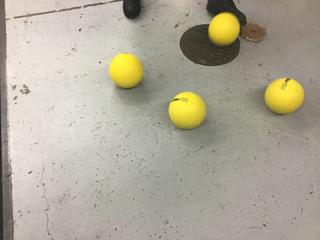power_cell: (167, 85, 207, 133), (265, 79, 305, 118), (206, 12, 240, 47), (106, 55, 141, 87)
